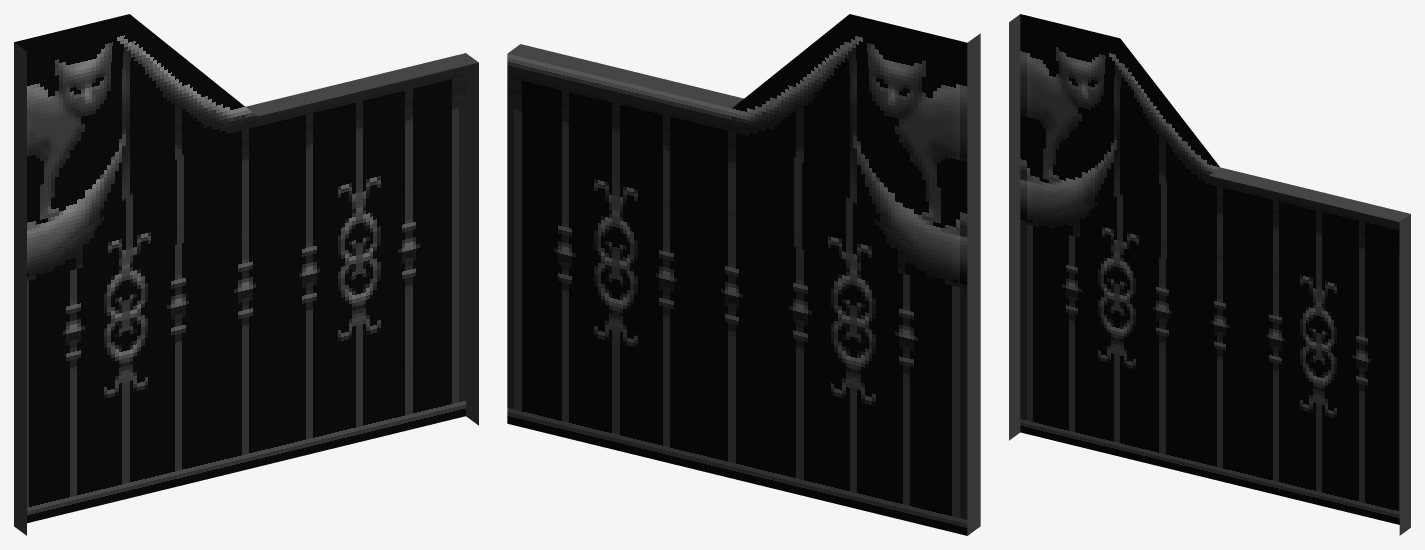
3 views of the same model, side by side, from view 1: azimuth 30°, elevation 25°; view 2: azimuth 150°, elevation 25°; view 3: azimuth 330°, elevation 25° (orthographic). The views are drawn at different scales.
Parts seen in each view (by area): view 1: prim182-right gate; view 2: prim182-right gate; view 3: prim182-right gate.
Part boxes in pixels (x1,y1,x2,y2): prim182-right gate: (14, 14, 478, 535); prim182-right gate: (507, 14, 980, 535); prim182-right gate: (1009, 14, 1410, 535).
Size of the model in its own units: 500 by 512 by 25.
Materials: 3 (3 with a texture image).
